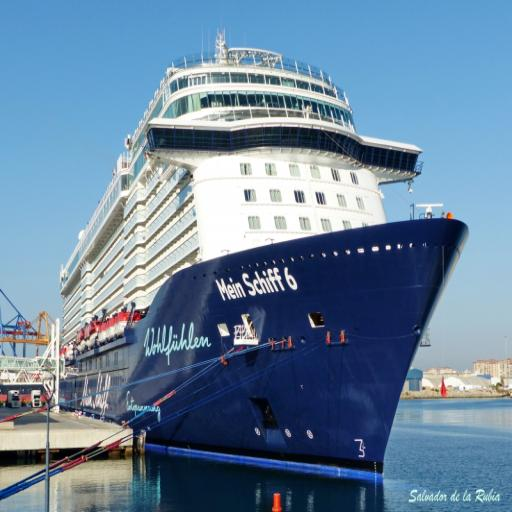cruises: (57, 30, 474, 492)
